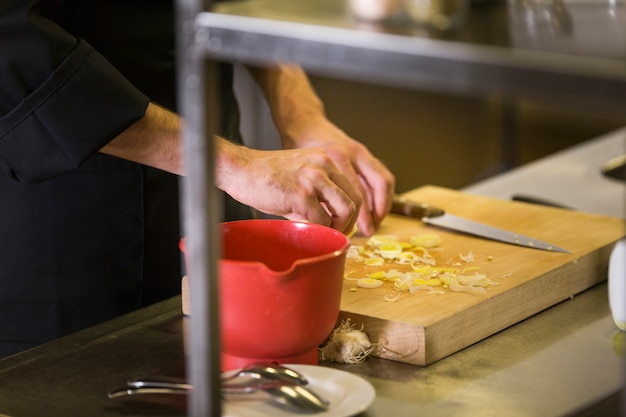knife: (388, 195, 573, 254)
